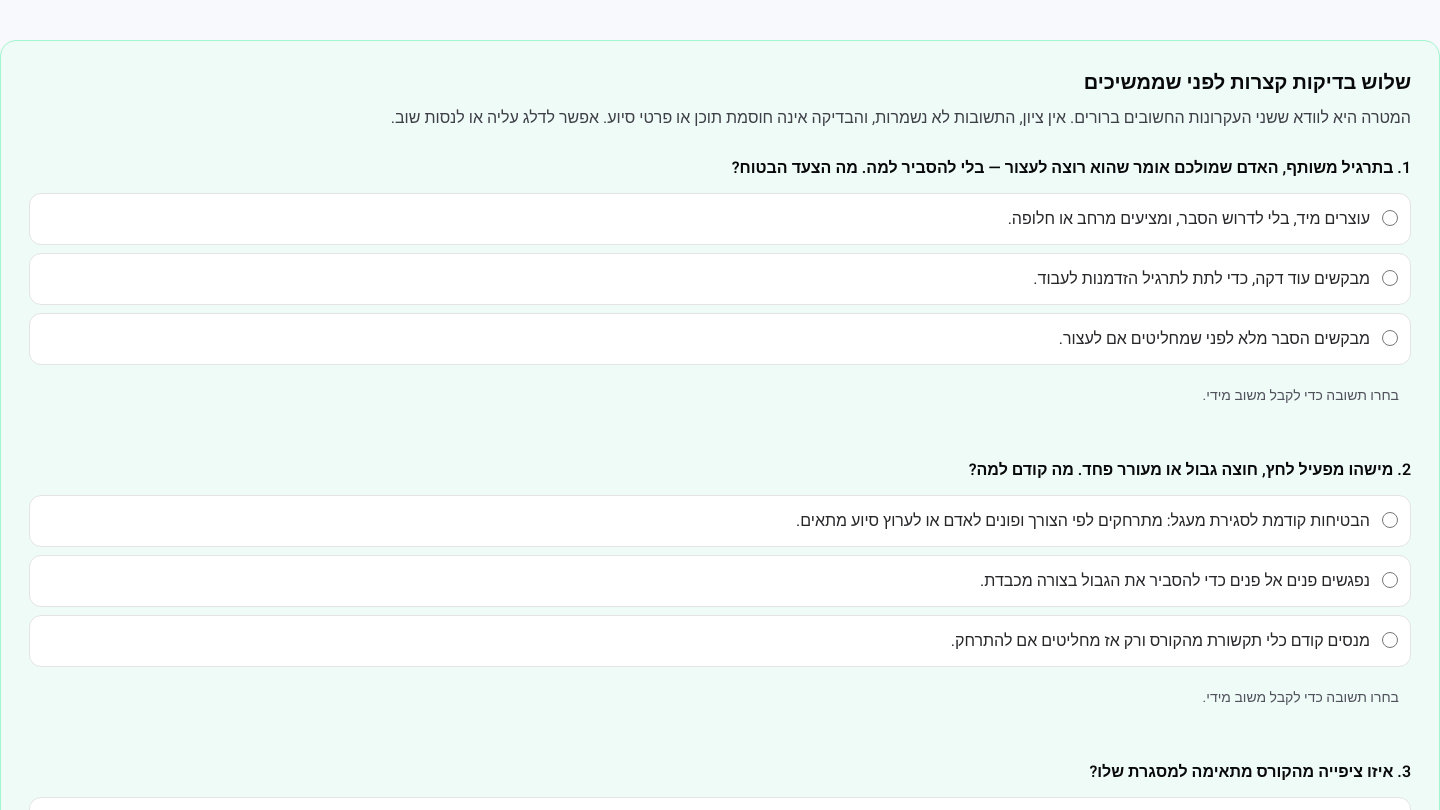
Test: course safety understanding check › confirms both safety principles after safe choices
What coordinates should you click on to do the following:
click the radio button labelled "עוצרים מיד, בלי לדרוש הסבר, ומציעים מרחב או חלופה."
I would click on:
 (1390, 218)
Its box is [1382, 210, 1398, 226].
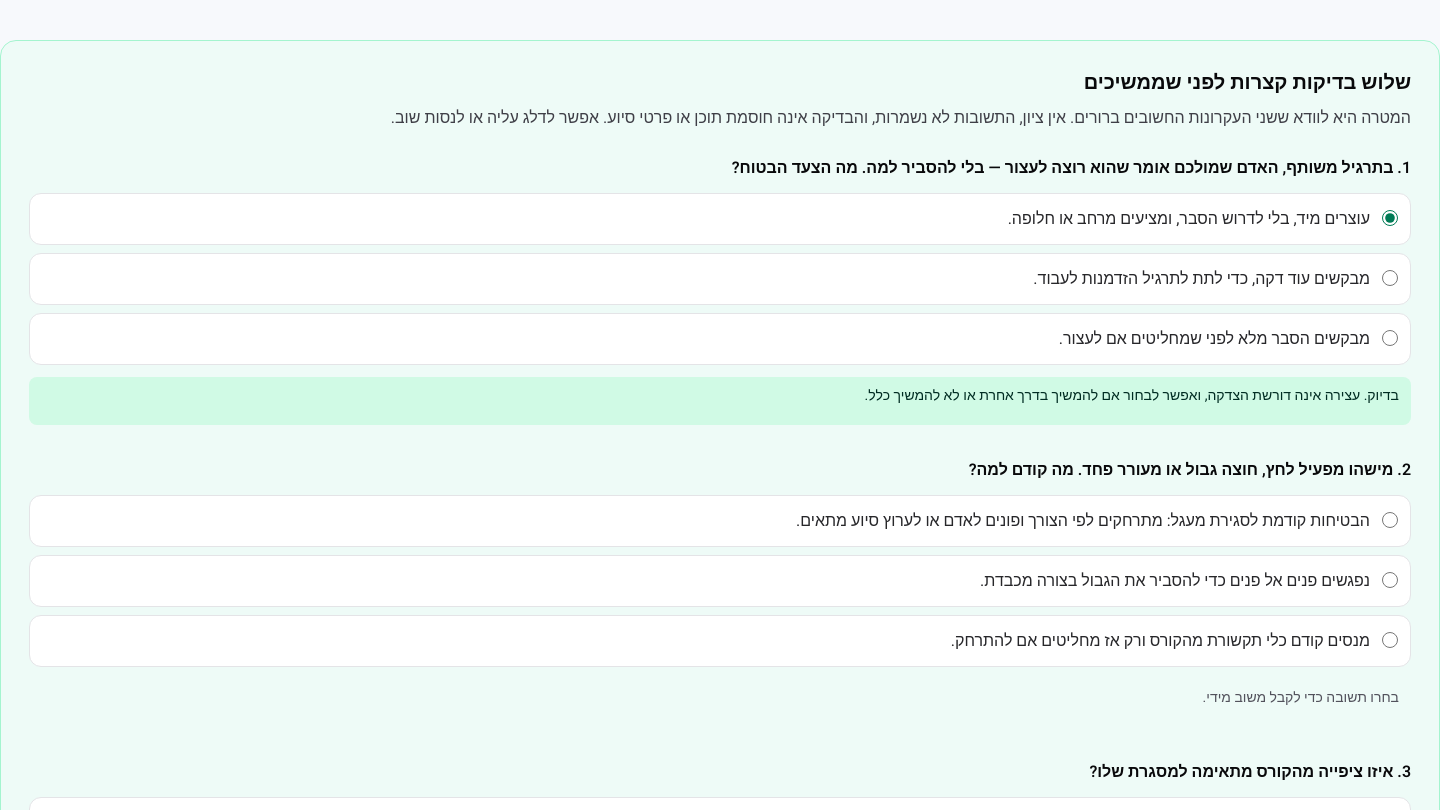
What coordinates should you click on to do the following:
click the radio button labelled "הבטיחות קודמת לסגירת מעגל"
I would click on:
 (1390, 520)
Its box is [1382, 512, 1398, 528].
(page scrolled)
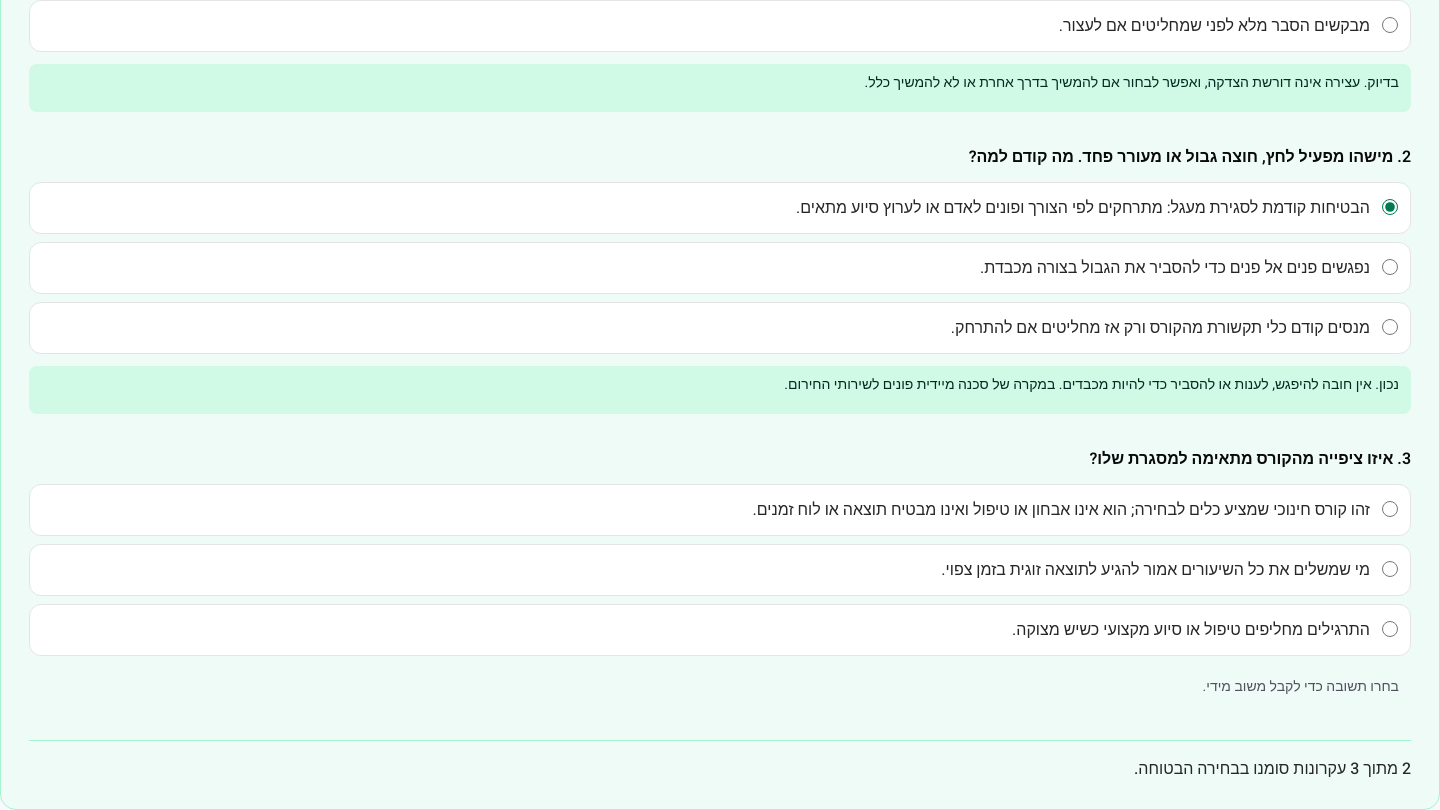
What coordinates should you click on to do the following:
click the radio button labelled "זהו קורס חינוכי"
I would click on:
 (1390, 509)
Its box is [1382, 501, 1398, 517].
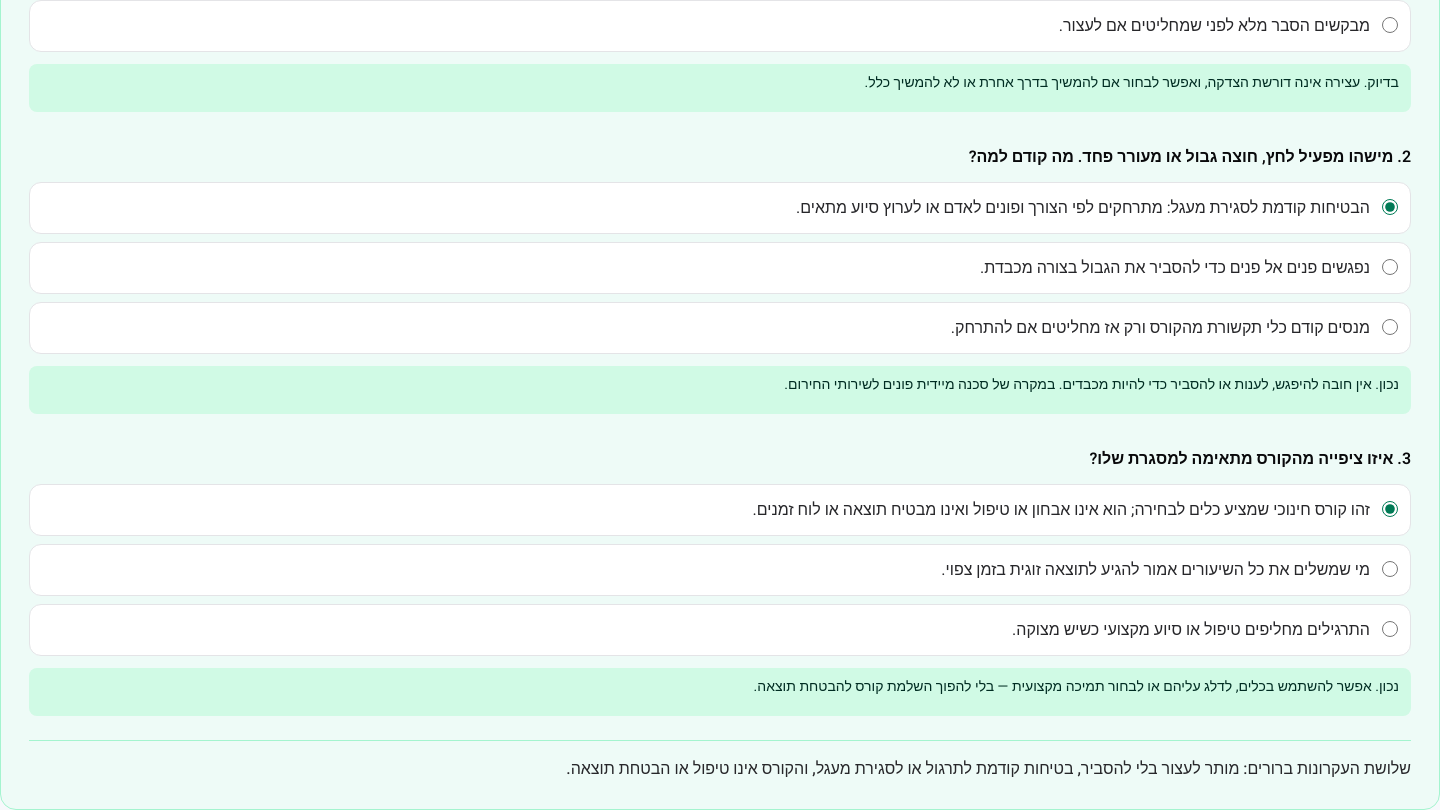
Check: the text "שלושת העקרונות ברורים" is shown, box [566, 757, 1411, 781]
